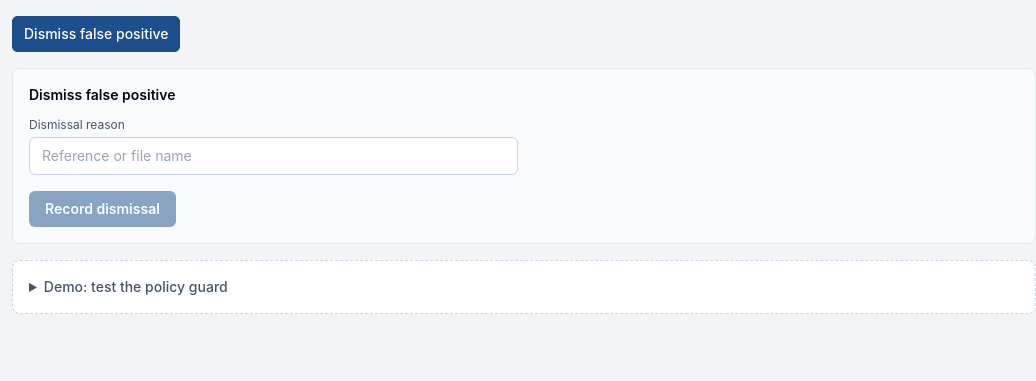
it: TransitionPanel › records an allowed step after required evidence is supplied
Type "Verified duplicate detection" into the field labelled "Dismissal reason" at (274, 156), box [29,137,518,175]
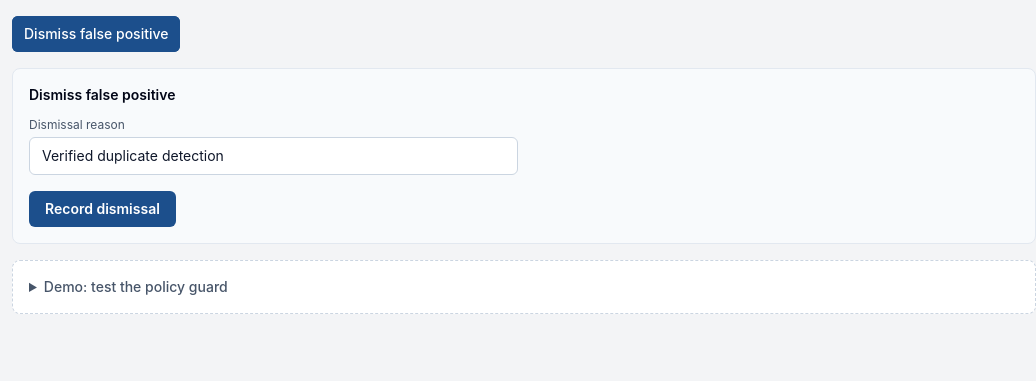
Click the button "Record dismissal" at (102, 209), box [29,191,176,227]
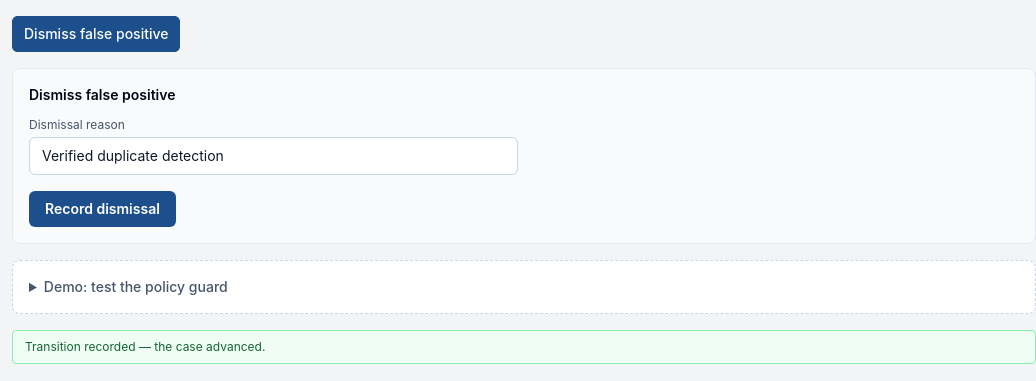
Now the message with test id "transition-result" reads "Transition recorded — the case advanced.", box [25,339,265,354]
